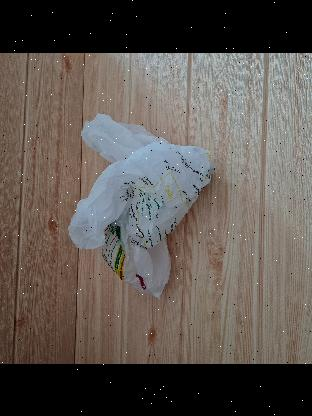Others: (72, 106, 212, 294)
